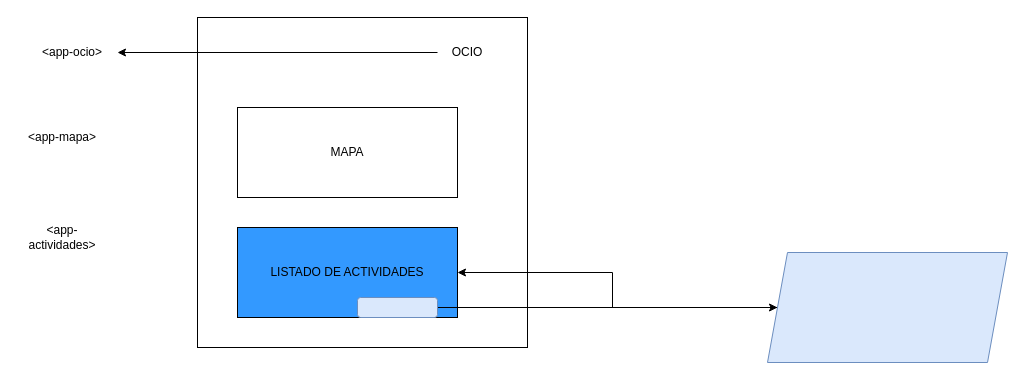
Some shapes in this 1025 by 380 pixel diagram are drawn without their labels. Each missing label, with the centre of its shape:
API DATOS ABIERTOS: the point at 887,307
DISTRITO: the point at 397,307
